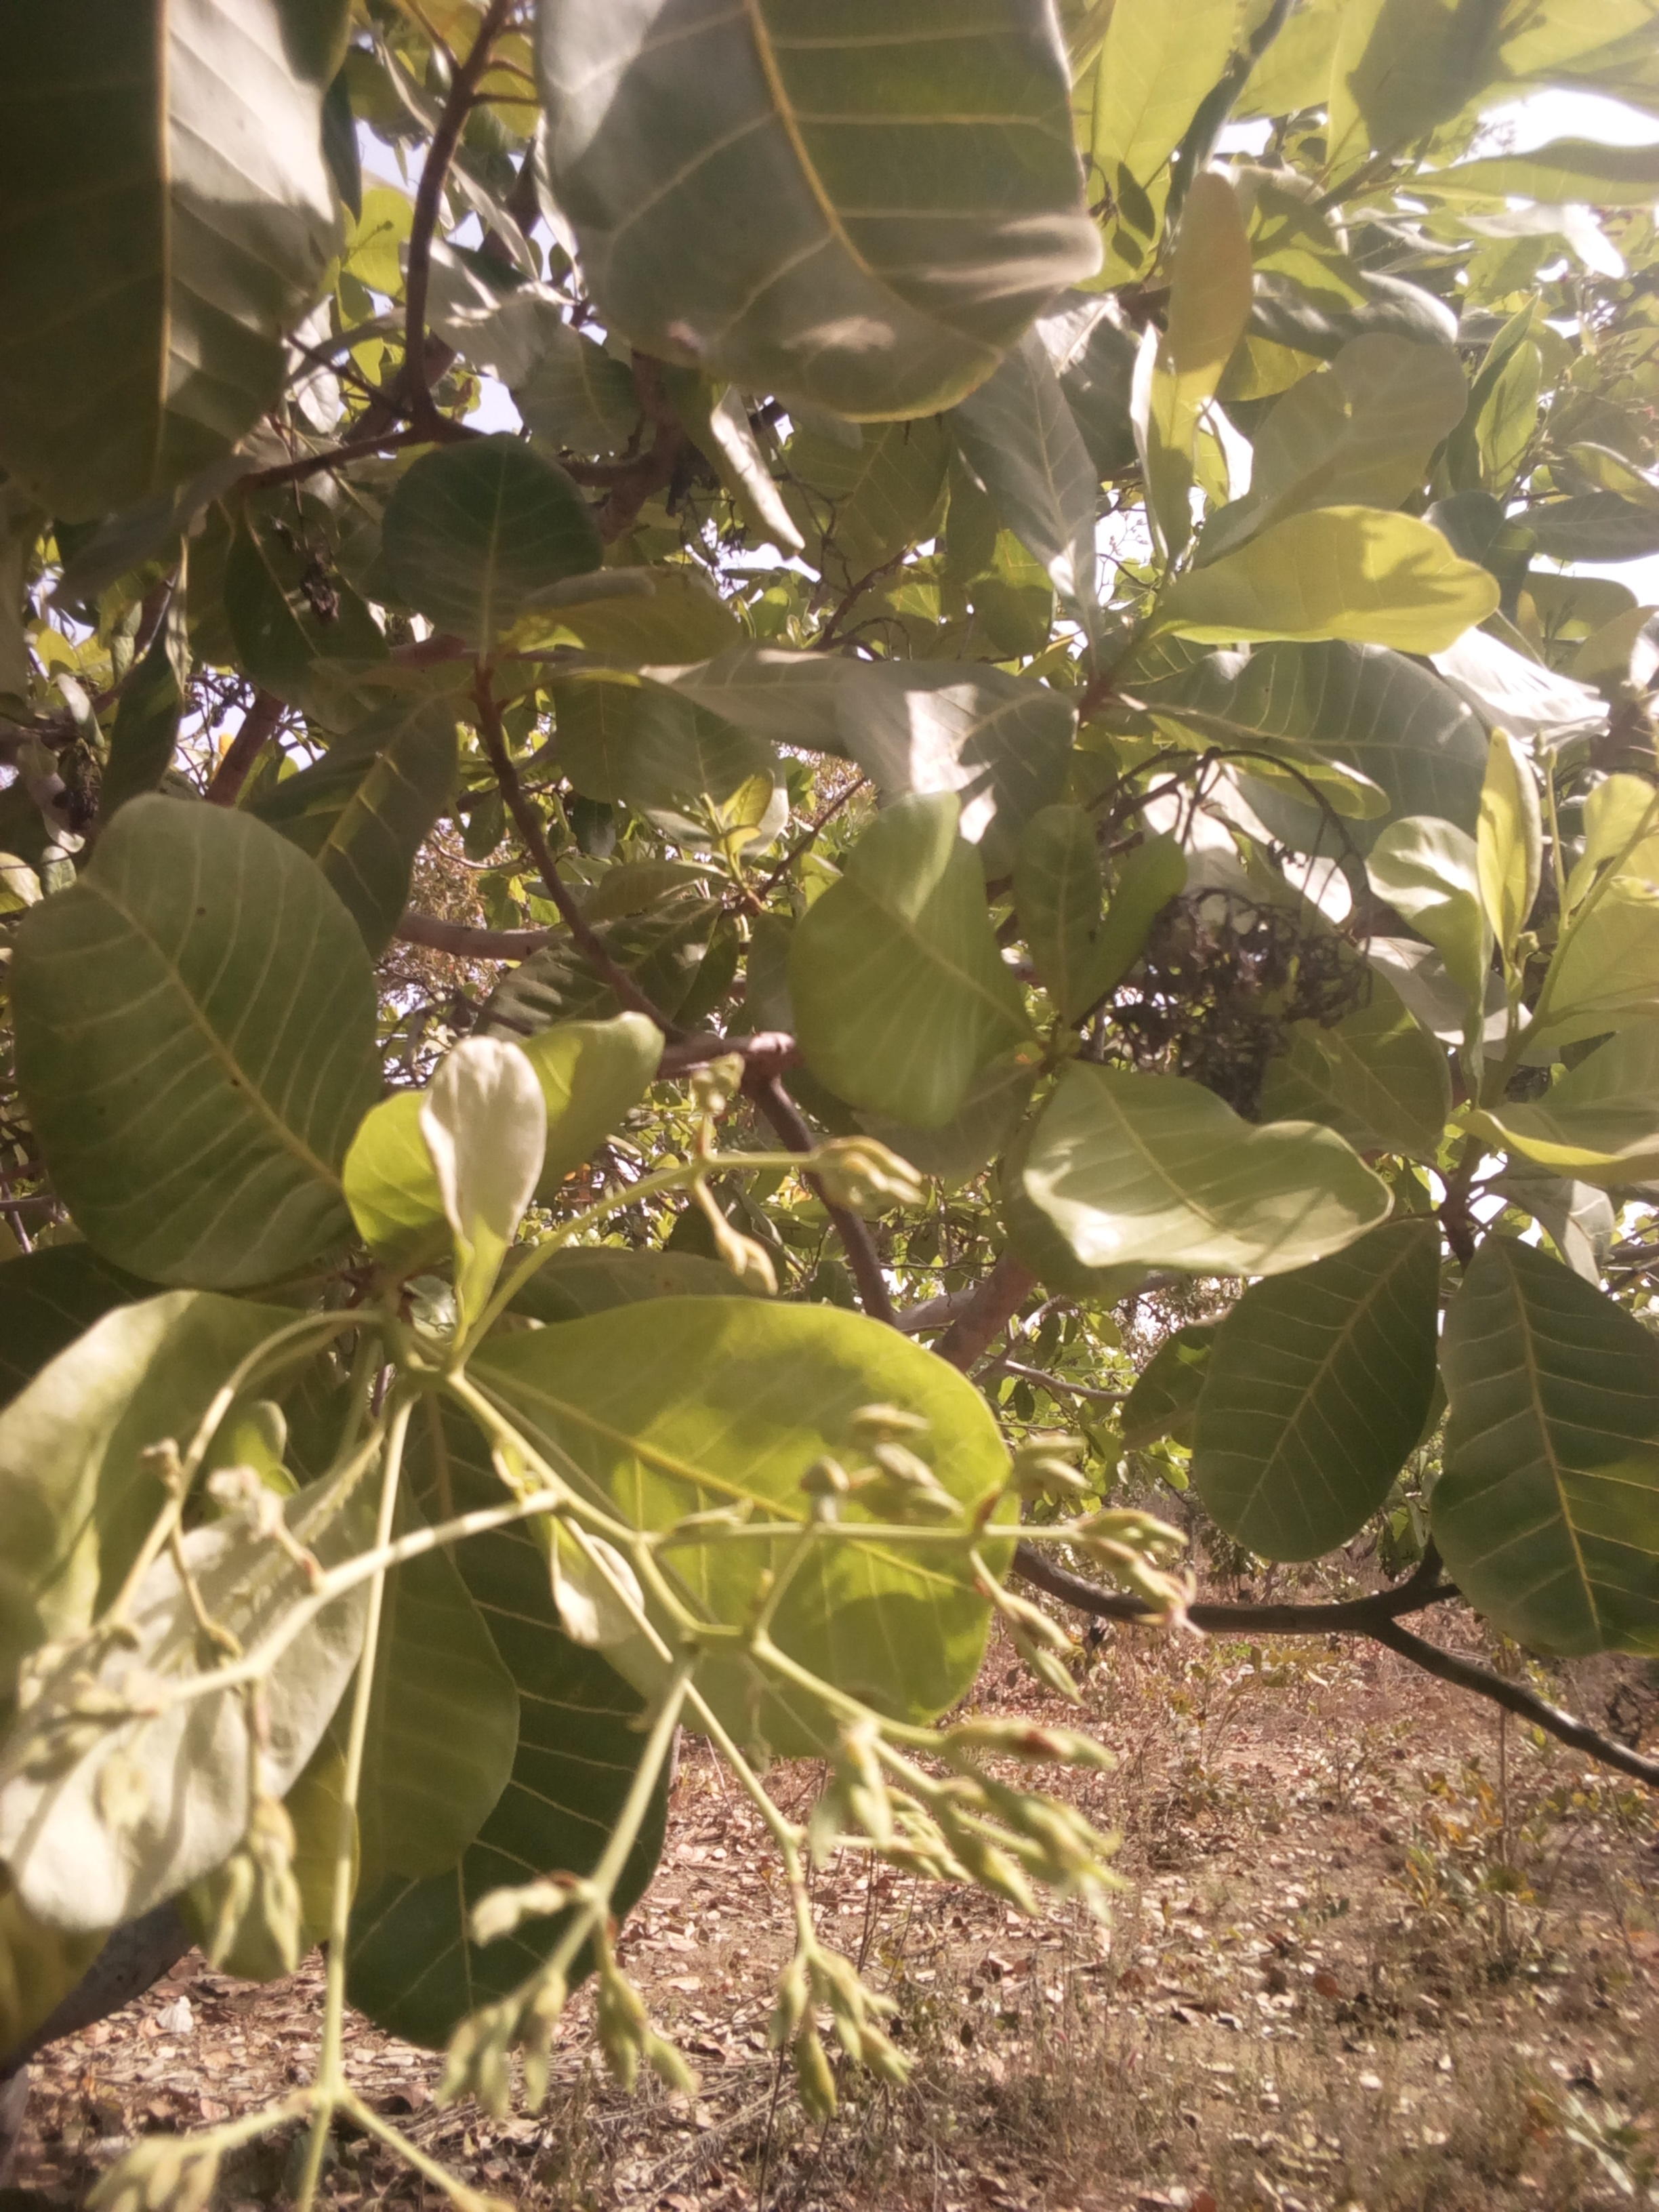Dessèchement des bourgeons: (1162, 747, 1358, 1035), (782, 472, 904, 655)
